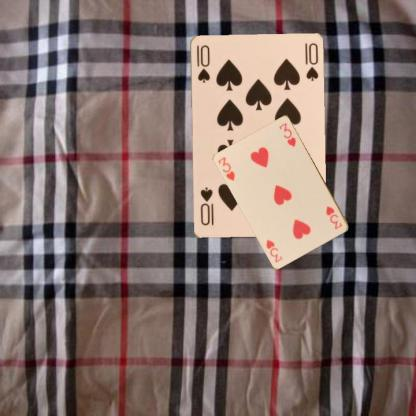10s: (193, 42, 211, 84)
3h: (216, 154, 236, 182), (324, 204, 344, 231)
